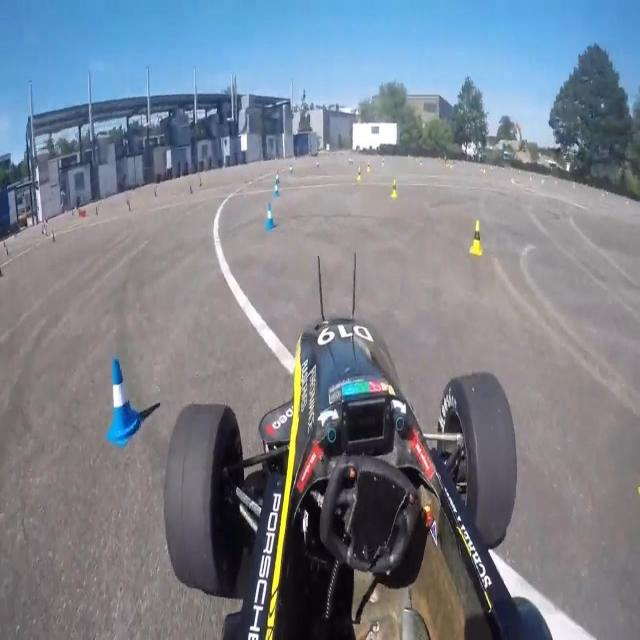blue_cone: (104, 351, 140, 442), (260, 199, 279, 232), (270, 174, 279, 195)
yellow_cone: (465, 220, 485, 259), (389, 174, 401, 201)
